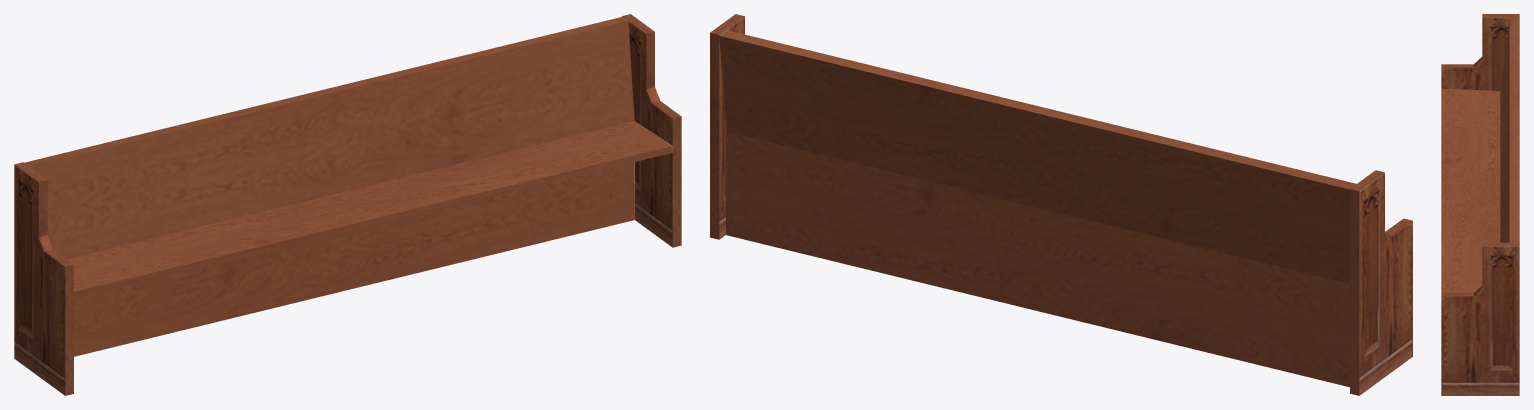
File: BenchPrayer01.obj
3 renders of one model, left to right at view 1: azimuth 30°, elevation 25°; view 2: azimuth 150°, elevation 25°; view 3: azimuth 270°, elevation 25°, orthographic. The views are drawn at different scales.
Visible parts, largest first — view 1: BenchPrayer01; view 2: BenchPrayer01; view 3: BenchPrayer01.
Part boxes in pixels (x1=…): BenchPrayer01: x1=14, y1=14, x2=681, y2=395; BenchPrayer01: x1=710, y1=14, x2=1412, y2=395; BenchPrayer01: x1=1441, y1=14, x2=1519, y2=395.
Bounding box in the file's own units: 5.25 × 1.58 × 0.75.
